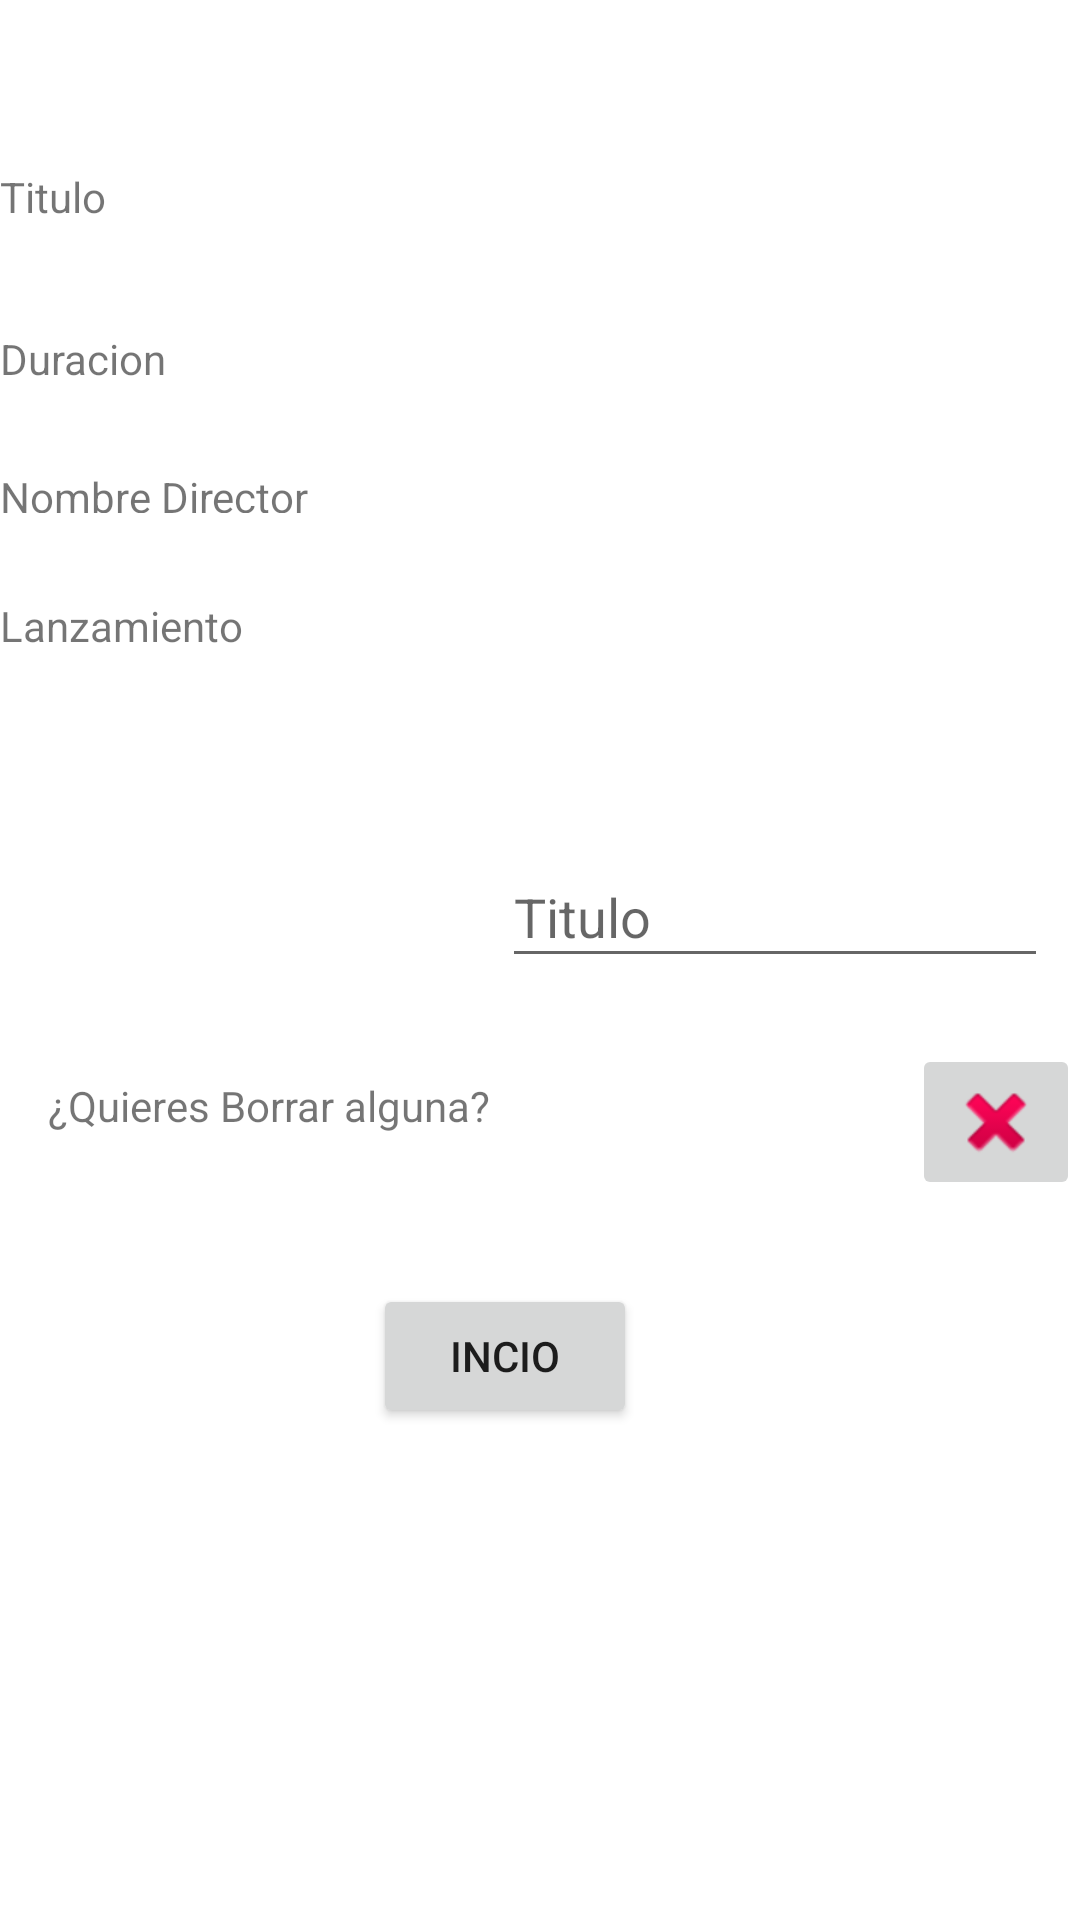

Icon bounding boxes for this 1080*1920 phone screenshot, format (x1, y1, x2, y2):
delete: (924, 1062, 1068, 1182)
